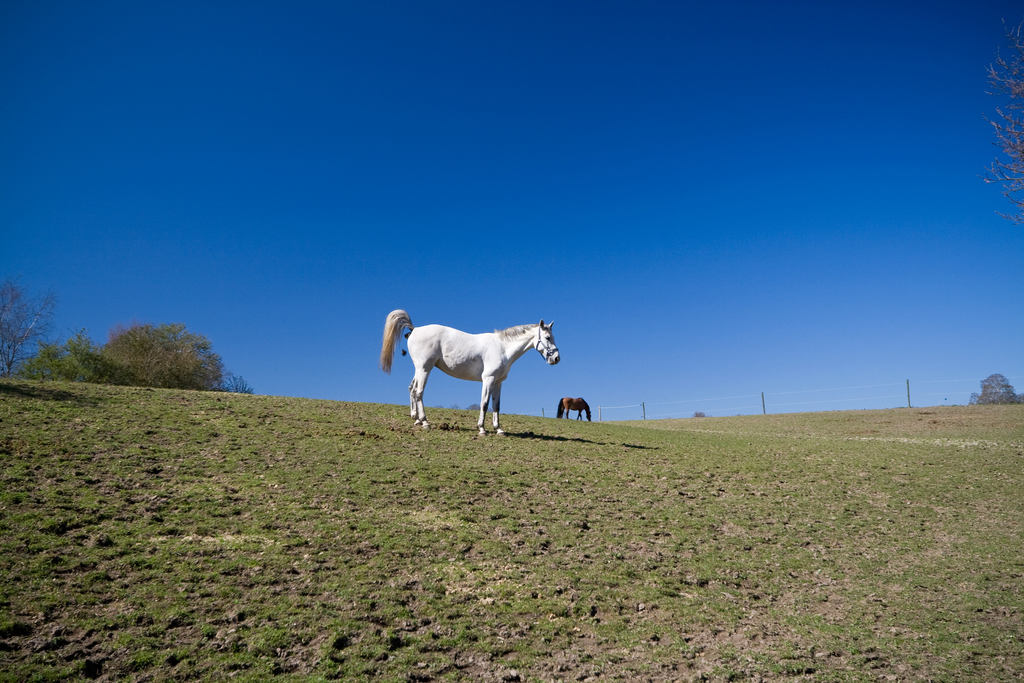horse: (382, 310, 560, 437), (558, 395, 593, 424)
